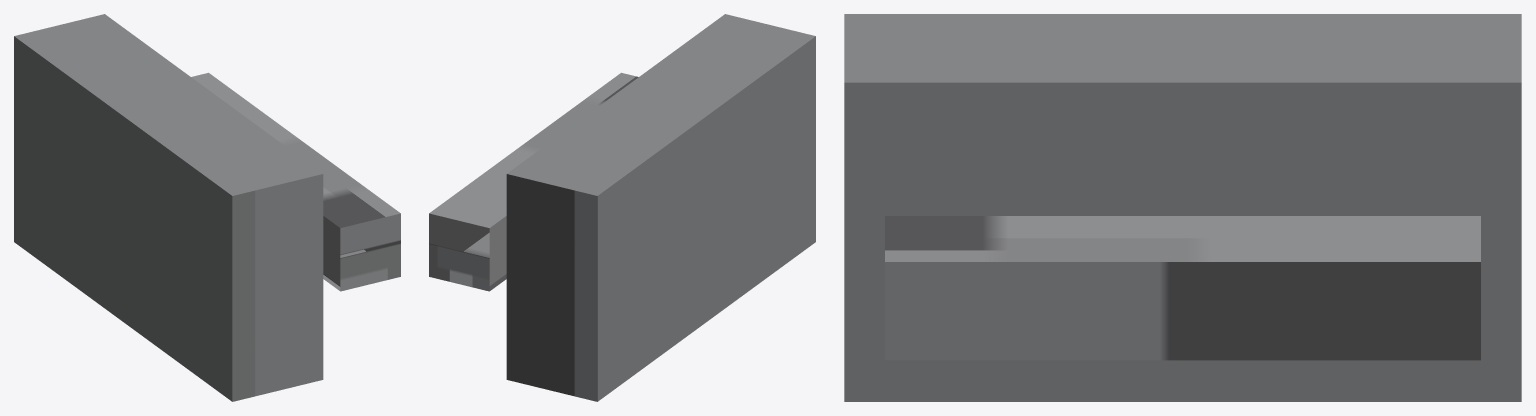
3 renders of one model, left to right at view 1: azimuth 30°, elevation 25°; view 2: azimuth 150°, elevation 25°; view 3: azimuth 270°, elevation 25°, orthographic. The views are drawn at different scales.
Size of the model in its own units: 0.024 by 0.026 by 0.05.
